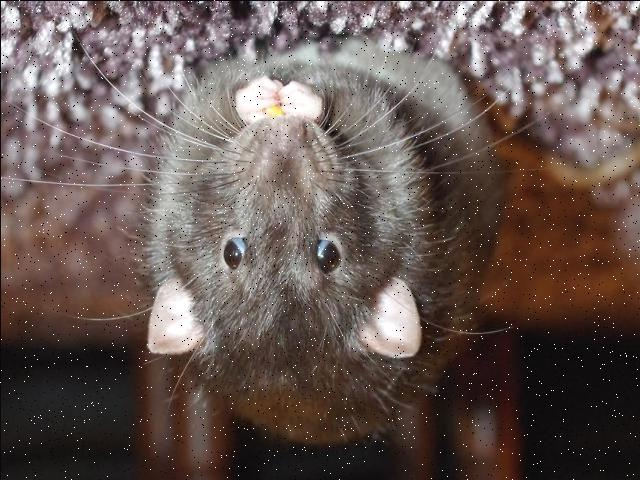Tikus: (138, 40, 496, 442)
